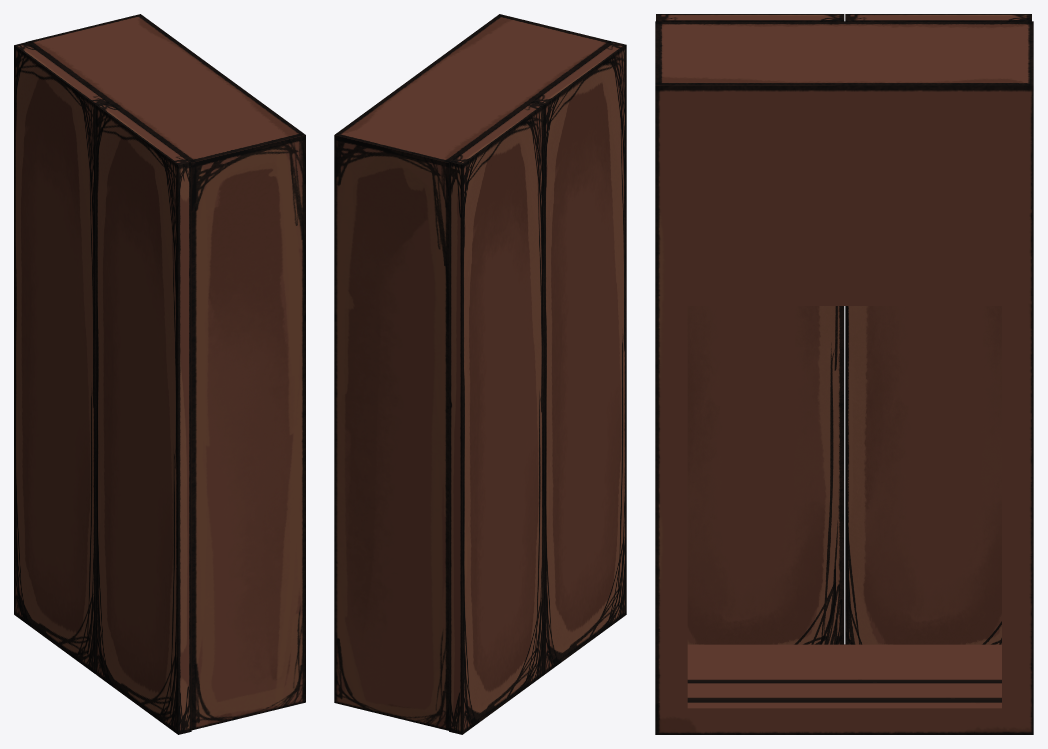
File: wardrobe_livingroom_2.fbx
3 views of the same model, side by side, from view 1: azimuth 30°, elevation 25°; view 2: azimuth 150°, elevation 25°; view 3: azimuth 270°, elevation 25° (orthographic). The views are drawn at different scales.
Parts seen in each view (by area): view 1: wardrobe_livingroom_2.001, cupboard_door.006, cupboard_door.007; view 2: wardrobe_livingroom_2.001, cupboard_door.007, cupboard_door.006; view 3: wardrobe_livingroom_2.001, cupboard_door.006, cupboard_door.007.
Part boxes in pixels (x1,y1,x2,y2): wardrobe_livingroom_2.001: [27, 14, 305, 730]; cupboard_door.006: [96, 102, 191, 734]; cupboard_door.007: [14, 42, 108, 674]; wardrobe_livingroom_2.001: [334, 14, 612, 730]; cupboard_door.007: [449, 102, 543, 734]; cupboard_door.006: [531, 41, 626, 674]; wardrobe_livingroom_2.001: [655, 21, 1033, 734]; cupboard_door.006: [656, 14, 844, 644]; cupboard_door.007: [845, 14, 1031, 644].
Bounding box in the file's own units: 0.8062 × 3.45 × 1.81.
Materials: 3 (3 with a texture image).
